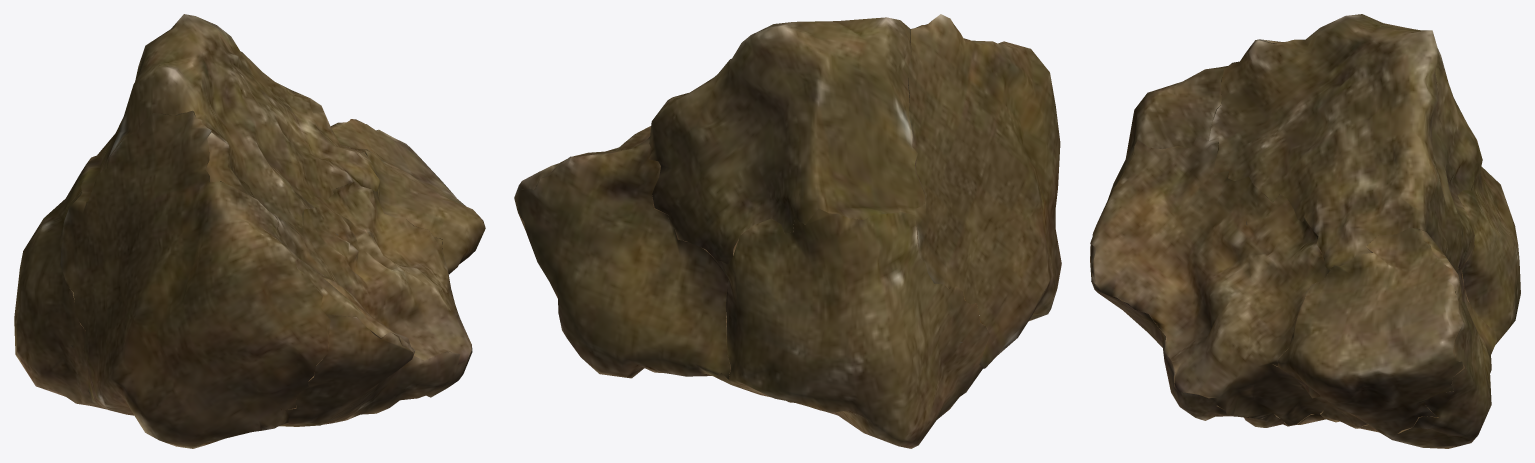
Rendered from rock_moss_set_01_rock04.glb.
The picture shows the model from 3 angles, left to right: view 1: azimuth 30°, elevation 25°; view 2: azimuth 150°, elevation 25°; view 3: azimuth 270°, elevation 25°; orthographic projection. The views are drawn at different scales.
Parts seen in each view (by area): view 1: rock_moss_set_01_rock04; view 2: rock_moss_set_01_rock04; view 3: rock_moss_set_01_rock04.
Part boxes in pixels (x1,y1,x2,y2): rock_moss_set_01_rock04: (14,14,485,448); rock_moss_set_01_rock04: (514,14,1061,448); rock_moss_set_01_rock04: (1090,14,1520,448).
Size of the model in its own units: 2.13 by 1.77 by 1.96.
Materials: 1 (1 with a texture image).
